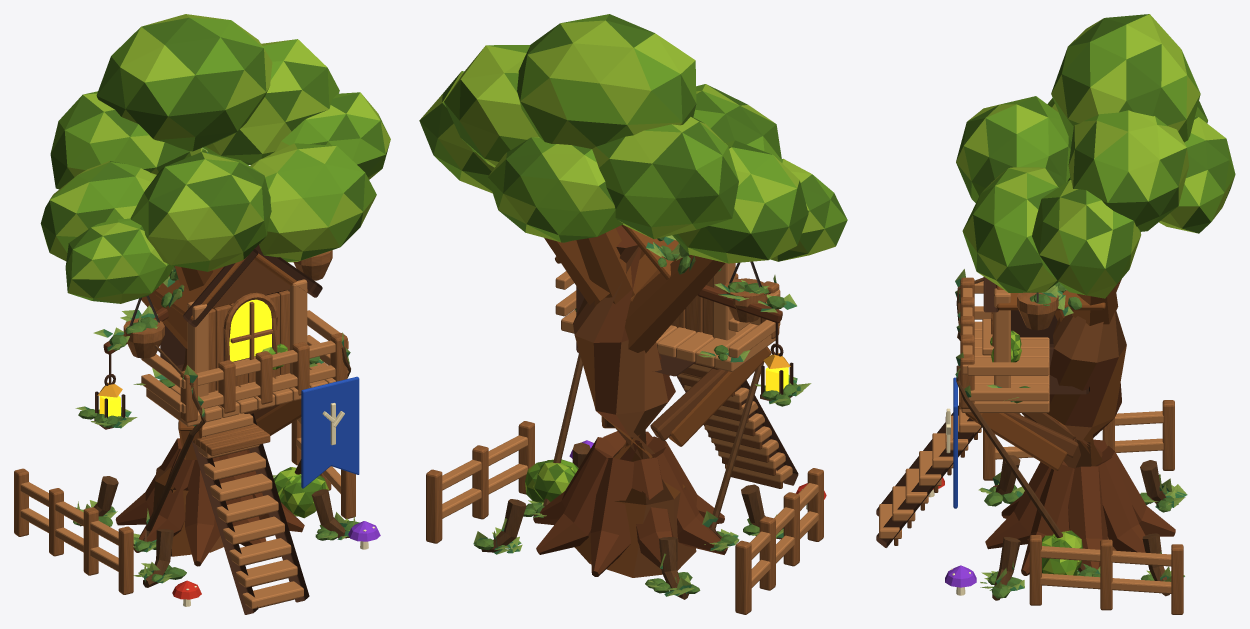
File: tree_house.glb
3 views of the same model, side by side, from view 1: azimuth 30°, elevation 25°; view 2: azimuth 150°, elevation 25°; view 3: azimuth 270°, elevation 25° (orthographic). The views are drawn at different scales.
Parts seen in each view (by area): view 1: Runtime surface 008, Runtime surface 009, Runtime surface 007, Runtime surface 006, Runtime surface 005, Runtime surface 002, Runtime surface 011, Runtime surface 001, Runtime surface 003, Runtime surface 017, Runtime surface 004, Runtime surface 020 (+3 smaller); view 2: Runtime surface 008, Runtime surface 007, Runtime surface 009, Runtime surface 002, Runtime surface 003, Runtime surface 006, Runtime surface 004, Runtime surface 005, Runtime surface 017, Runtime surface 020, Runtime surface 011, Runtime surface 019 (+1 smaller); view 3: Runtime surface 009, Runtime surface 008, Runtime surface 007, Runtime surface 006, Runtime surface 002, Runtime surface 005, Runtime surface 003, Runtime surface 004, Runtime surface 017, Runtime surface 011, Runtime surface 020, Runtime surface 019 (+3 smaller).
Part boxes in pixels (bbox=[...]): Runtime surface 008: bbox=[44, 14, 390, 517]; Runtime surface 009: bbox=[40, 17, 389, 516]; Runtime surface 007: bbox=[50, 17, 388, 517]; Runtime surface 006: bbox=[20, 279, 348, 608]; Runtime surface 005: bbox=[14, 250, 355, 594]; Runtime surface 002: bbox=[103, 307, 304, 566]; Runtime surface 011: bbox=[94, 243, 322, 614]; Runtime surface 001: bbox=[301, 376, 359, 488]; Runtime surface 003: bbox=[141, 152, 307, 556]; Runtime surface 017: bbox=[79, 345, 350, 587]; Runtime surface 004: bbox=[153, 259, 294, 608]; Runtime surface 020: bbox=[73, 271, 359, 581]; Runtime surface 008: bbox=[420, 20, 835, 492]; Runtime surface 007: bbox=[433, 14, 847, 503]; Runtime surface 009: bbox=[419, 14, 847, 501]; Runtime surface 002: bbox=[533, 225, 782, 576]; Runtime surface 003: bbox=[544, 224, 771, 577]; Runtime surface 006: bbox=[442, 263, 818, 587]; Runtime surface 004: bbox=[573, 245, 782, 577]; Runtime surface 005: bbox=[426, 273, 823, 614]; Runtime surface 017: bbox=[481, 290, 781, 599]; Runtime surface 020: bbox=[474, 237, 798, 593]; Runtime surface 011: bbox=[576, 286, 798, 485]; Runtime surface 019: bbox=[473, 235, 811, 596]; Runtime surface 009: bbox=[956, 14, 1233, 575]; Runtime surface 008: bbox=[956, 14, 1234, 575]; Runtime surface 007: bbox=[963, 25, 1235, 574]; Runtime surface 006: bbox=[879, 281, 1171, 593]; Runtime surface 002: bbox=[985, 349, 1175, 575]; Runtime surface 005: bbox=[959, 277, 1183, 614]; Runtime surface 003: bbox=[965, 232, 1140, 470]; Runtime surface 004: bbox=[894, 310, 1126, 550]; Runtime surface 017: bbox=[956, 277, 1169, 600]; Runtime surface 011: bbox=[876, 277, 1089, 547]; Runtime surface 020: bbox=[984, 282, 1178, 598]; Runtime surface 019: bbox=[955, 269, 1187, 590].
Size of the model in its own units: 4.5 by 6.18 by 3.78.
20 materials, 5 textured.
